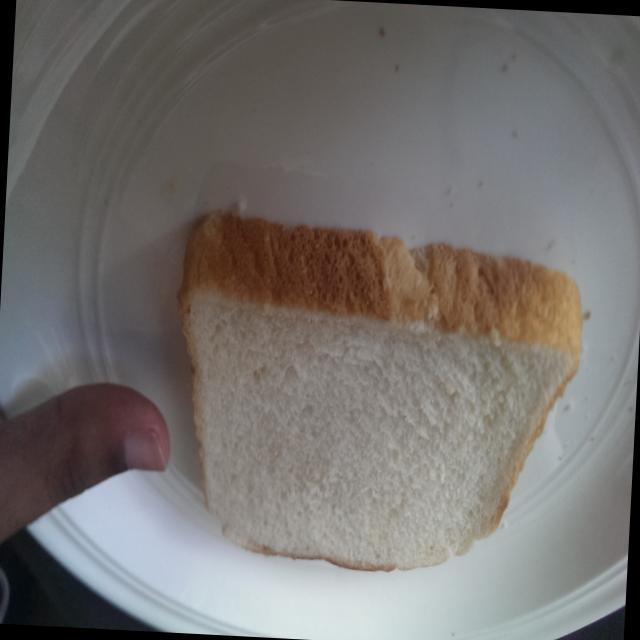Bread: (162, 200, 594, 598)
Finger: (43, 371, 184, 538)
